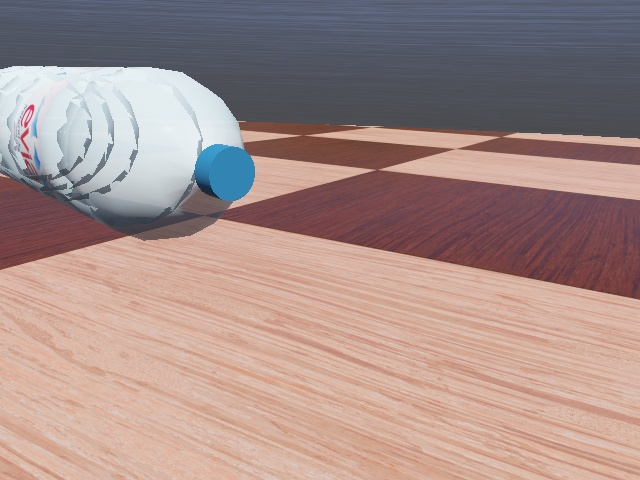chai_nhua: (0, 62, 256, 241)
